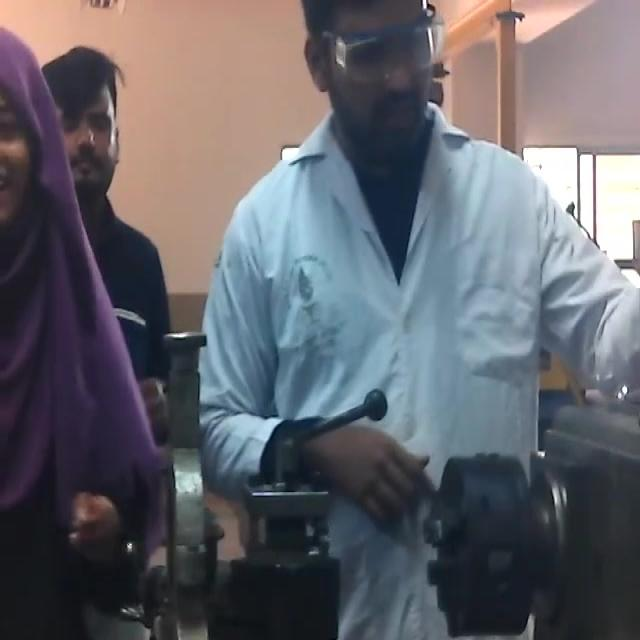googles: (312, 12, 462, 78)
labcoat: (202, 101, 640, 640)
